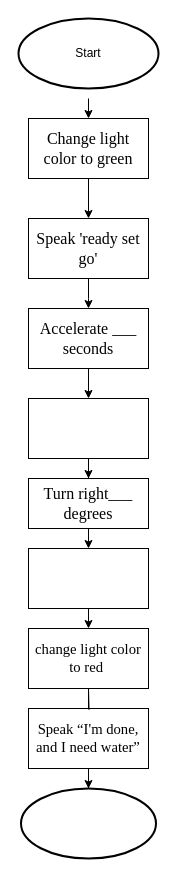
Image size: 176x876. Some labels were removed from this diagram. Here are the shapes that lost their labels. From the top down, the centre of each, then its label:
At point (88, 428): "Pause ___ seconds".
At point (88, 578): "Stop".
At point (88, 823): "End".
